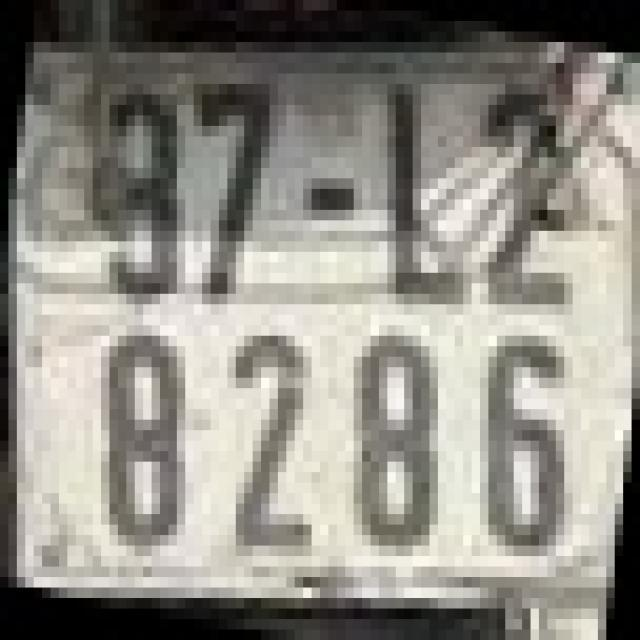2: (219, 325, 320, 556), (480, 83, 573, 304)
6: (480, 325, 573, 556)
7: (194, 73, 278, 304)
8: (346, 325, 446, 546), (101, 325, 194, 546)
L: (375, 63, 459, 315)
